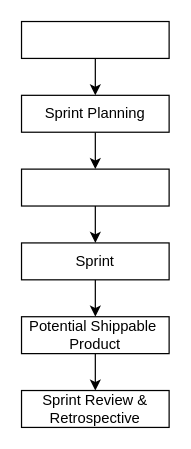
The diagram is 191 pixels wide and 449 high, and some of its shapes have lost their labels. Each missing label, with the centre of its shape:
Product Backlog: [94,39]
Sprint Backlog: [94,187]
